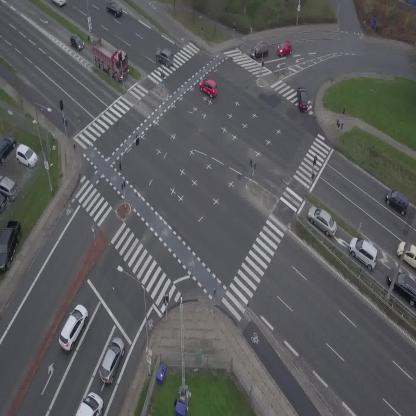car: (54, 302, 92, 353), (95, 335, 129, 386), (343, 233, 385, 272), (303, 202, 343, 240), (381, 187, 413, 216), (396, 242, 416, 271), (196, 76, 221, 99), (153, 46, 177, 69), (65, 32, 86, 54), (295, 86, 311, 112), (275, 40, 293, 57), (249, 44, 268, 58), (51, 0, 66, 6)
lorry: (83, 33, 137, 85), (75, 392, 103, 416)
